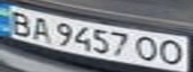4: (72, 24, 93, 52)
5: (90, 26, 112, 56)
7: (109, 29, 133, 58)
9: (51, 19, 75, 47)
A: (27, 14, 54, 43)
B: (3, 7, 36, 37)
O: (157, 37, 187, 67), (133, 34, 163, 63)
